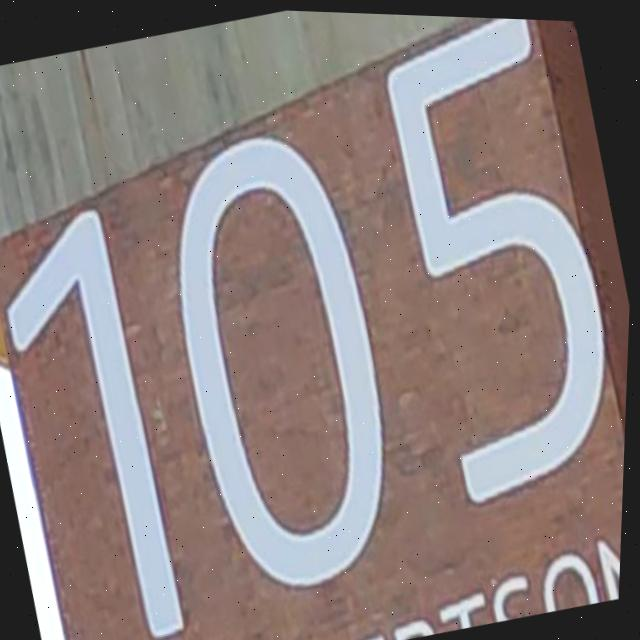character: (126, 103, 438, 616), (354, 14, 640, 519), (0, 189, 211, 640)
